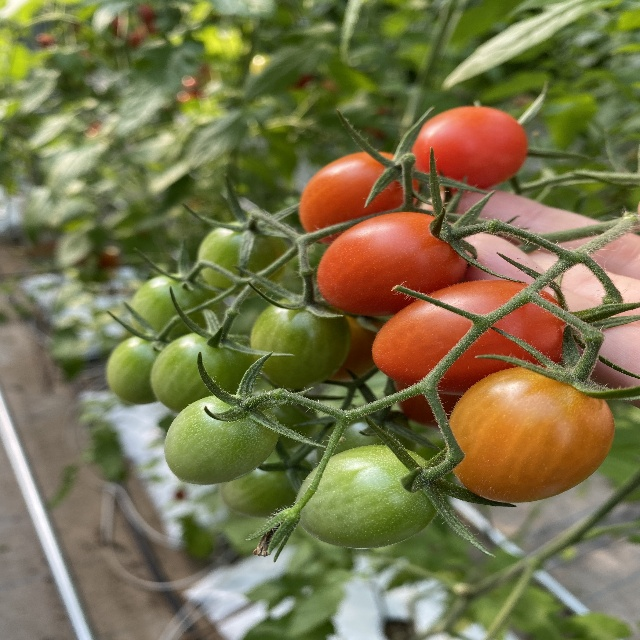l_fully_ripened: (369, 280, 572, 395), (316, 212, 468, 318), (298, 150, 422, 247), (410, 106, 528, 192)
l_green: (292, 445, 440, 549), (162, 394, 280, 485), (250, 295, 349, 390), (152, 328, 260, 412), (199, 220, 289, 297), (219, 448, 313, 518), (131, 271, 219, 342), (318, 408, 415, 466), (107, 335, 171, 406)
l_half_ripened: (445, 364, 615, 503)
